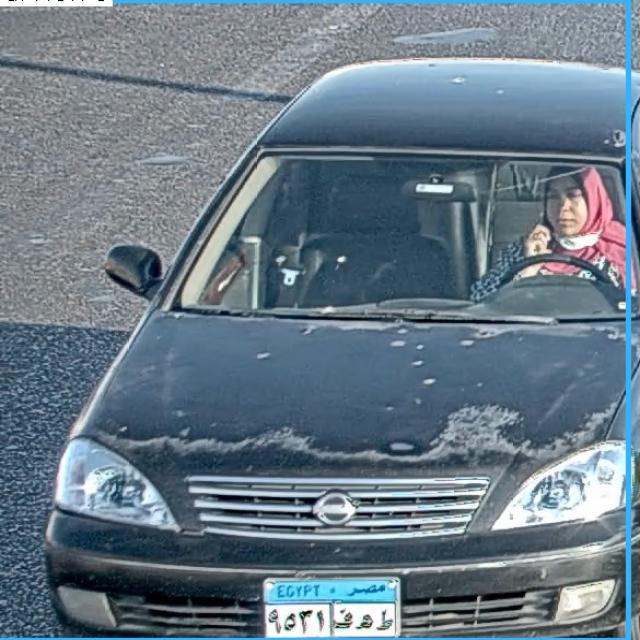windshield: (177, 150, 630, 324)
